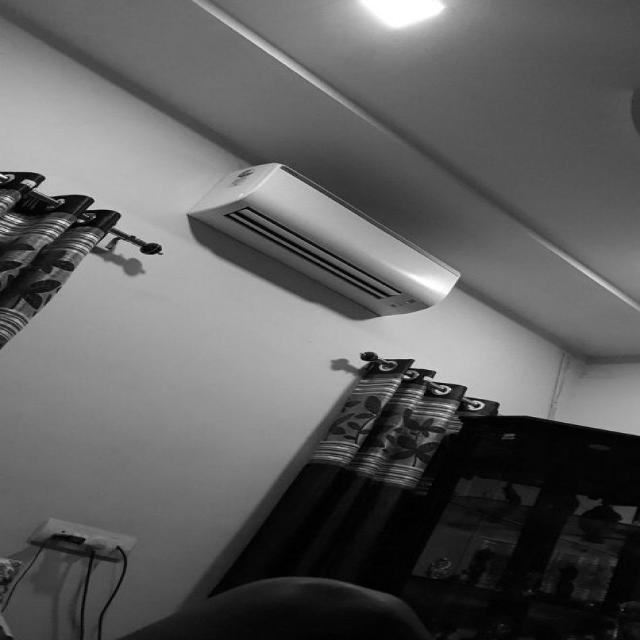AC: (187, 161, 461, 317)
